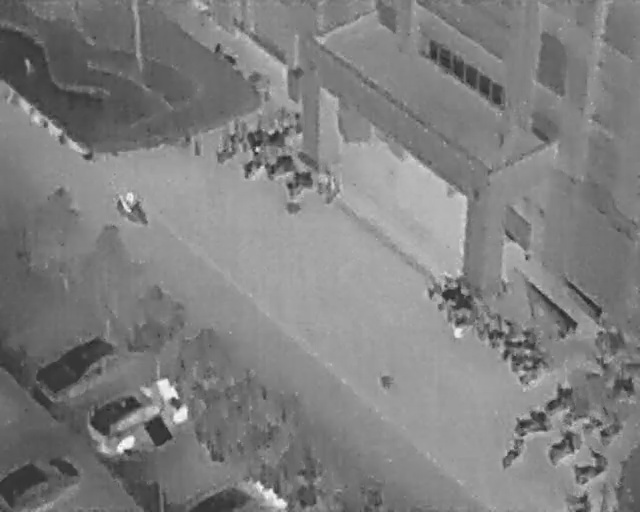Bicycle: (108, 184, 155, 232), (564, 442, 613, 488), (541, 425, 586, 469), (443, 302, 483, 344), (278, 163, 317, 206), (536, 379, 580, 417), (260, 145, 299, 184), (494, 434, 530, 475), (511, 406, 553, 440), (496, 329, 536, 364), (515, 356, 553, 391), (235, 145, 268, 184), (484, 316, 520, 348), (504, 346, 545, 373), (597, 413, 628, 445), (209, 40, 241, 70), (319, 174, 344, 208), (422, 272, 452, 300), (435, 279, 465, 307), (448, 290, 478, 318), (231, 122, 251, 152), (564, 491, 593, 511), (213, 137, 227, 164), (248, 124, 263, 148), (265, 121, 282, 140)
Car: (74, 360, 196, 471), (28, 320, 131, 411), (0, 455, 80, 511), (186, 477, 279, 511)
